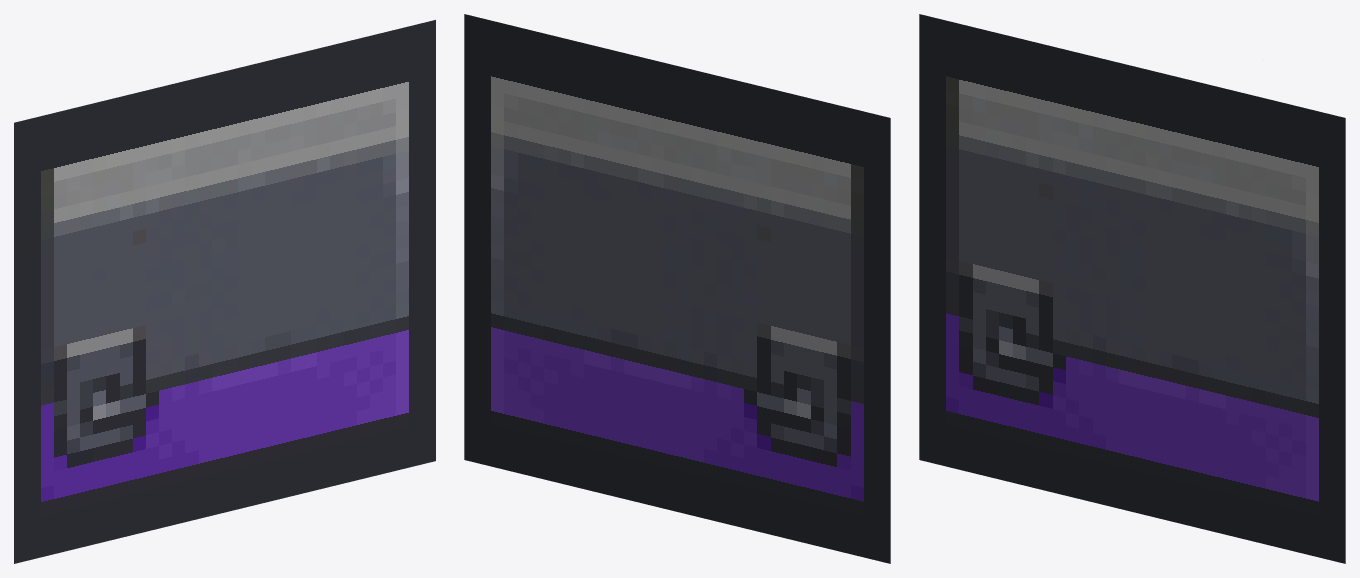
The model's file is Door_H_Purple_DownOnly.glb.
The picture shows the model from 3 angles, left to right: view 1: azimuth 30°, elevation 25°; view 2: azimuth 150°, elevation 25°; view 3: azimuth 330°, elevation 25°; orthographic projection.
Visible parts, largest first — view 1: pPlane6; view 2: pPlane6; view 3: pPlane6.
Part boxes in pixels (left/top/right/bottom): pPlane6: left=14, top=20, right=435, bottom=563; pPlane6: left=464, top=14, right=890, bottom=563; pPlane6: left=919, top=14, right=1345, bottom=563.
Size of the model in its own units: 1 by 1.03 by 0.1.
2 materials, 2 textured.
